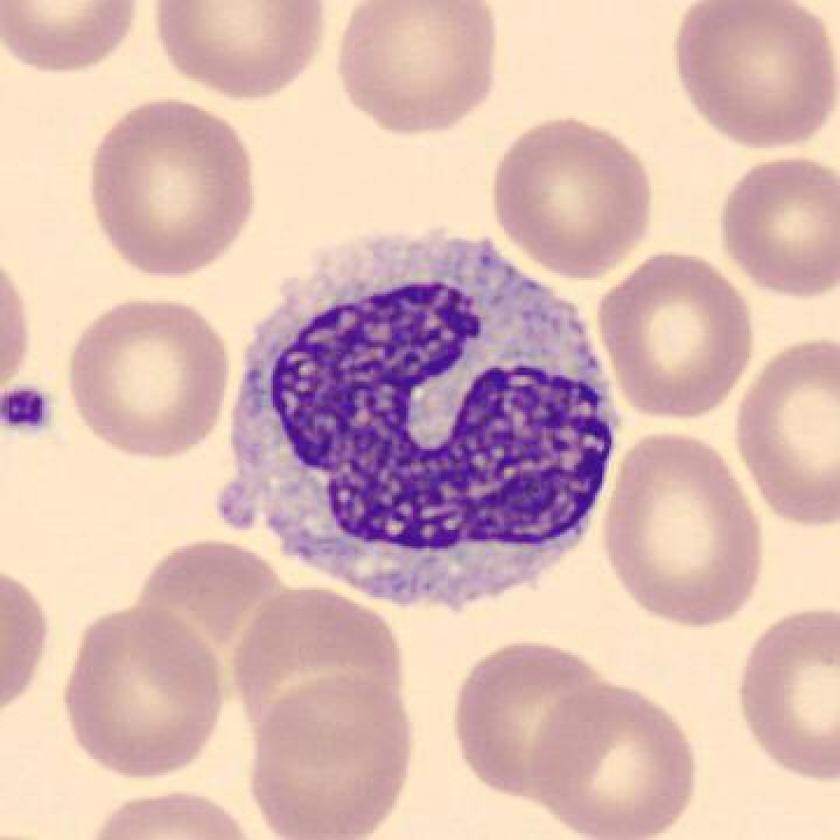monocyte: (216, 219, 633, 642)
